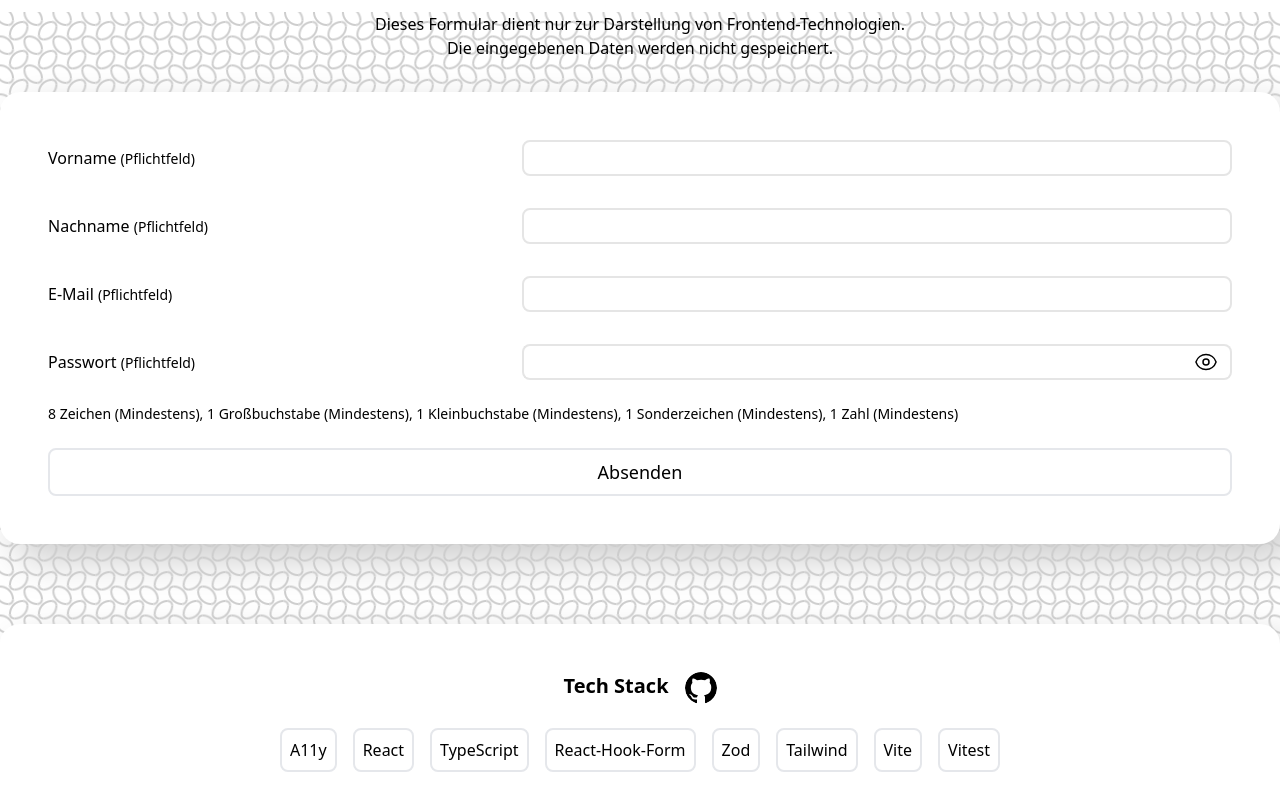
Registration Form › should be invalid and display an error message if firstname has less then 2 characters
This screenshot has width=1280, height=804.
In the field labelled "Vorname (Pflichtfeld)": (877, 158) top-left (522, 140), bottom-right (1232, 176), type "a"
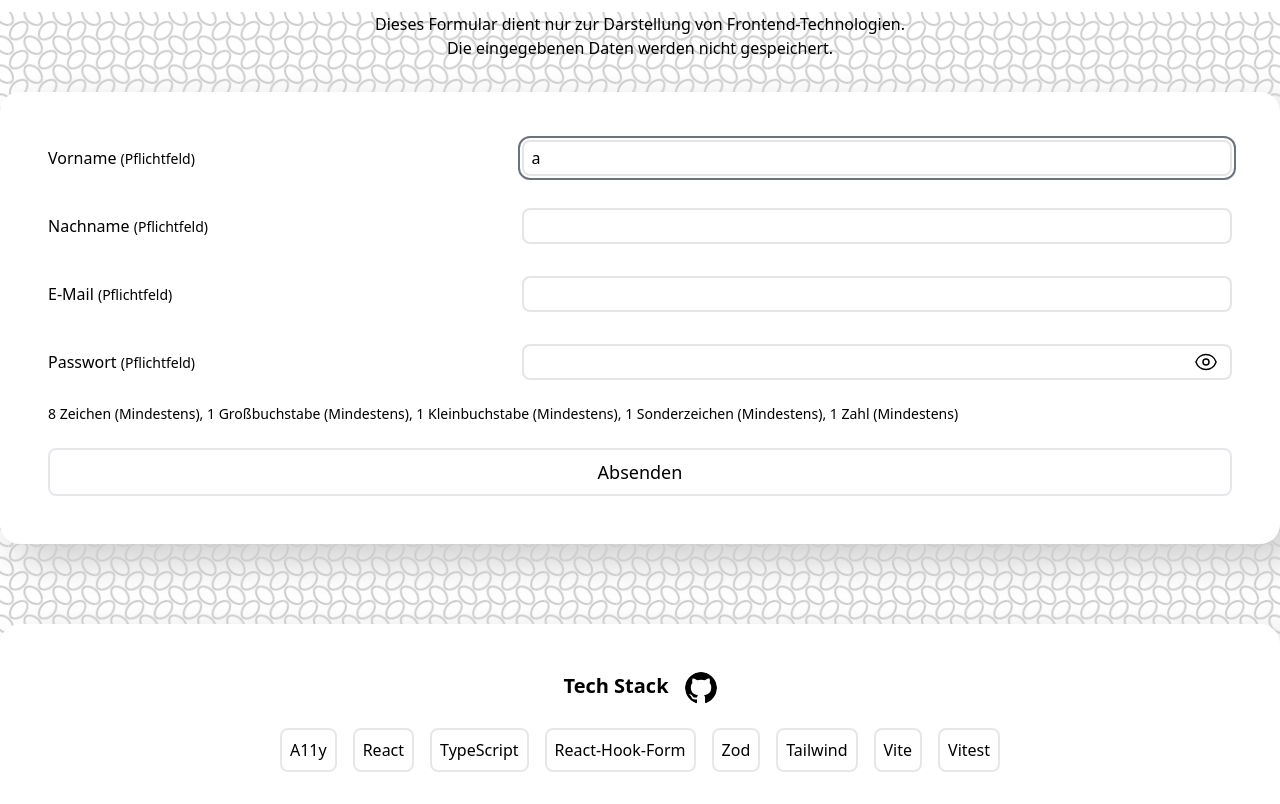
Press Tab
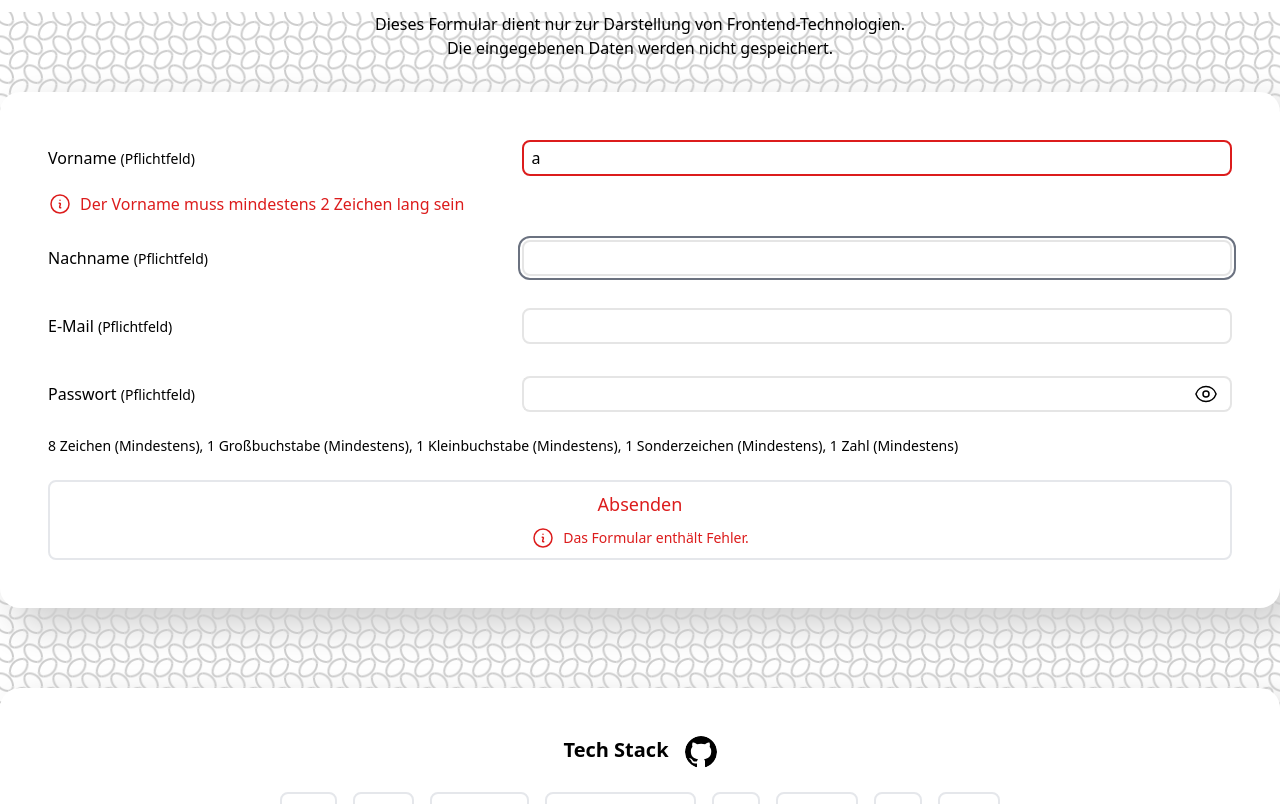
Now the message shows "Vorname", box top-left (80, 193), bottom-right (464, 215)
